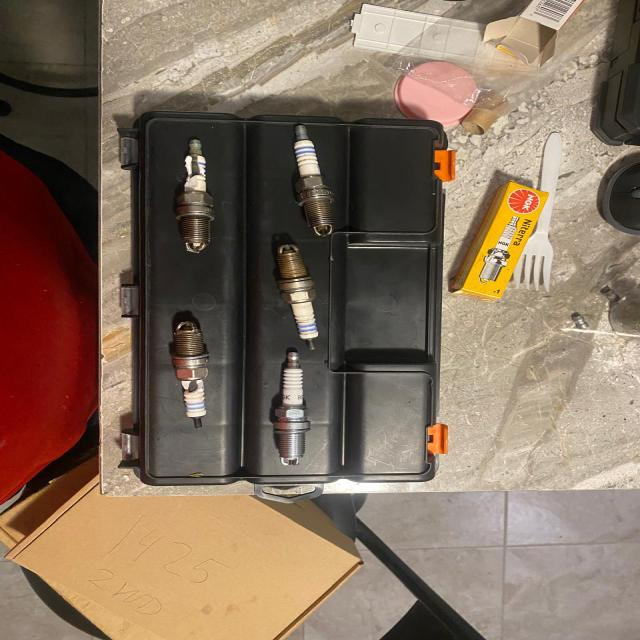damaged_spark-plug: (169, 318, 210, 429), (176, 135, 213, 257)
spark-plug: (274, 242, 326, 353), (291, 121, 336, 237), (274, 348, 307, 467)
